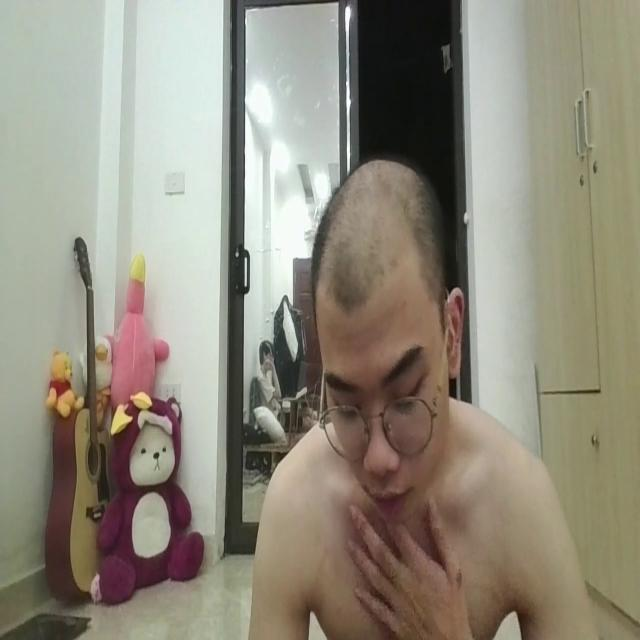extra_person: (246, 316, 304, 431)
student: (242, 135, 606, 640)
